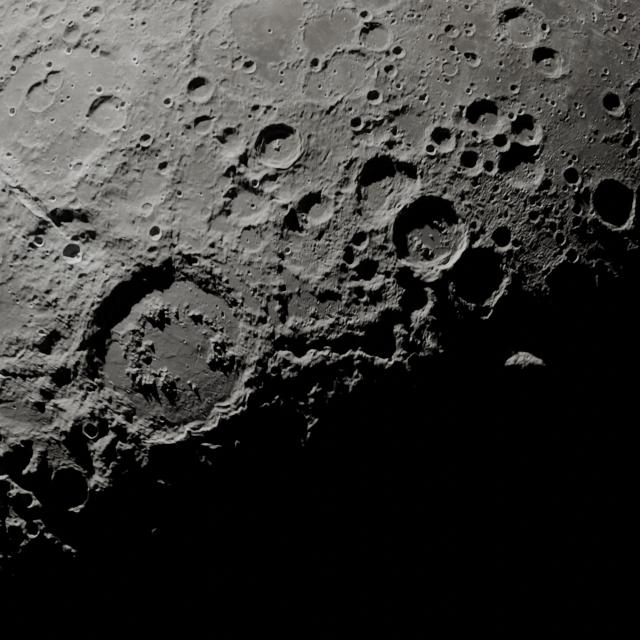crater: (256, 122, 306, 174), (405, 222, 456, 264), (182, 75, 215, 106), (304, 198, 336, 228), (600, 91, 626, 118), (189, 112, 214, 137), (490, 226, 512, 249), (40, 10, 62, 29), (439, 59, 460, 78), (462, 51, 482, 69), (308, 56, 326, 74), (562, 167, 580, 185), (366, 89, 382, 105), (241, 59, 257, 74), (148, 225, 163, 241), (138, 132, 153, 148), (382, 64, 397, 80), (248, 74, 266, 87), (390, 44, 405, 59), (349, 116, 364, 131), (357, 9, 373, 23), (462, 23, 477, 37), (443, 23, 458, 37), (139, 202, 154, 215), (69, 159, 84, 172), (32, 235, 45, 248), (424, 143, 437, 155), (89, 46, 102, 58), (418, 92, 430, 105), (162, 96, 174, 108), (539, 22, 550, 34), (509, 82, 520, 94), (11, 54, 22, 65), (250, 178, 260, 188), (464, 86, 474, 96), (623, 41, 633, 51), (506, 111, 516, 121), (250, 103, 261, 112), (610, 25, 620, 34), (8, 64, 18, 73), (128, 17, 137, 27), (394, 82, 404, 91), (283, 247, 292, 256), (64, 46, 73, 55), (592, 12, 600, 22), (8, 106, 16, 115), (559, 149, 568, 157), (48, 195, 57, 203), (426, 33, 435, 41), (463, 4, 472, 12), (497, 60, 505, 69), (442, 76, 451, 84), (175, 190, 183, 198), (95, 86, 103, 94), (602, 68, 610, 76), (588, 68, 596, 76), (131, 56, 139, 64), (578, 110, 586, 118), (549, 100, 557, 108), (278, 68, 286, 76), (140, 19, 148, 27), (43, 168, 52, 175), (249, 202, 256, 210), (45, 61, 53, 68), (495, 76, 502, 84), (5, 151, 13, 157), (266, 28, 273, 34), (49, 117, 56, 123), (121, 125, 127, 132), (86, 70, 92, 76), (620, 59, 625, 64)
rock: (530, 47, 564, 79), (126, 366, 164, 389), (209, 328, 230, 368), (122, 332, 154, 358), (266, 279, 289, 315), (404, 230, 430, 259), (137, 302, 168, 324), (181, 300, 209, 323), (380, 132, 405, 152), (185, 372, 200, 395)
